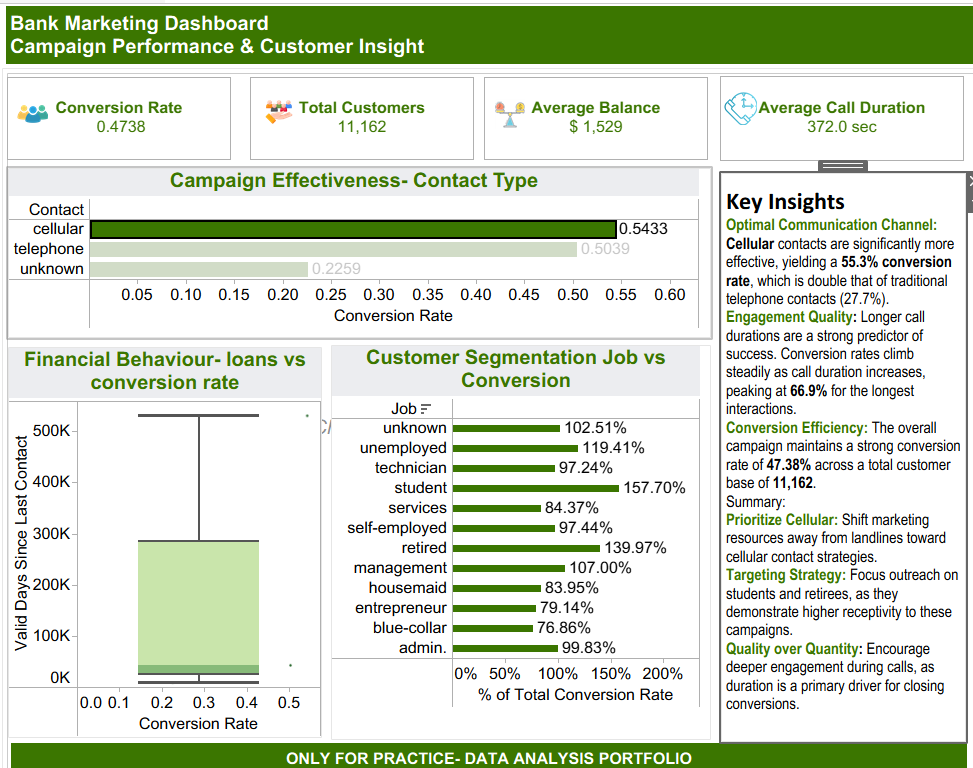

This screenshot's page, from the dashboard's own definition file:
{"tool":"tableau","page":{"name":"BANK MARKETING DASHBOARD Campaign Performance & Customer Insight`","canvas":[1000,800],"ordinal":0},"visuals":[{"type":"title","box":[8,8,984,66]},{"type":"image","box":[9,75,982,716]},{"type":"worksheet","title":"Conversion Rate","mark":"Automatic","box":[13,83,224,84]},{"type":"worksheet","title":"Total Customers","mark":"Automatic","box":[256,83,225,122]},{"type":"worksheet","title":"Avg Balance","mark":"Automatic","box":[490,83,224,91]},{"type":"image","param":"C:/Users/Sadia/AppData/Local/Temp/TableauTemp/0kvdiyg17apwlb1b8g9ub134mn4l/Sheet","box":[730,98,36,33]},{"type":"image","param":"C:/Users/Sadia/AppData/Local/Temp/TableauTemp/0kvdiyg17apwlb1b8g9ub134mn4l/Sheet","box":[269,102,39,31]},{"type":"image","param":"C:/Users/Sadia/AppData/Local/Temp/TableauTemp/0kvdiyg17apwlb1b8g9ub134mn4l/Sheet","box":[23,104,33,31]},{"type":"image","param":"C:/Users/Sadia/AppData/Local/Temp/TableauTemp/0kvdiyg17apwlb1b8g9ub134mn4l/Sheet","box":[501,105,36,30]},{"type":"worksheet","title":"Campaign Effectiveness- Contact Type","mark":"Automatic","rows":["contact"],"cols":["Calculation_2667482785542146"],"box":[14,174,703,170]},{"type":"text","box":[727,179,245,569]},{"type":"worksheet","title":"Customer Segmentation Job vs Conversion","mark":"Automatic","rows":["job"],"cols":["Calculation_2667482785542146"],"box":[337,351,380,395]},{"type":"worksheet","title":"Financial Behaviour – Balance vs Subscription","mark":"Circle","rows":["Calculation_2667482783514624"],"cols":["Calculation_2667482785542146"],"box":[14,353,314,391]},{"type":"text","box":[17,749,956,32]}]}

Visuals, with their boxes in screenshot pixels (x1, y1, x2, y2), scaled from the page's 1000x800 canvas onto the 973x768 screenshot:
title: (8, 8, 965, 71)
image: (9, 72, 964, 759)
"Conversion Rate" worksheet: (13, 80, 231, 160)
"Total Customers" worksheet: (249, 80, 468, 197)
"Avg Balance" worksheet: (477, 80, 695, 167)
image: (710, 94, 745, 126)
image: (262, 98, 300, 128)
image: (22, 100, 54, 130)
image: (487, 101, 523, 130)
"Campaign Effectiveness- Contact Type" worksheet: (14, 167, 698, 330)
text: (707, 172, 946, 718)
"Customer Segmentation Job vs Conversion" worksheet: (328, 337, 698, 716)
"Financial Behaviour – Balance vs Subscription" worksheet (Circle marks): (14, 339, 319, 714)
text: (17, 719, 947, 750)
